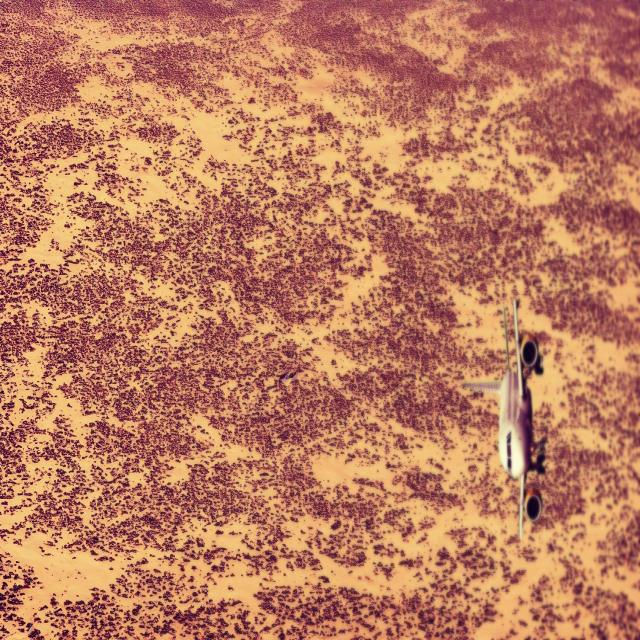airplane: (462, 298, 546, 541)
